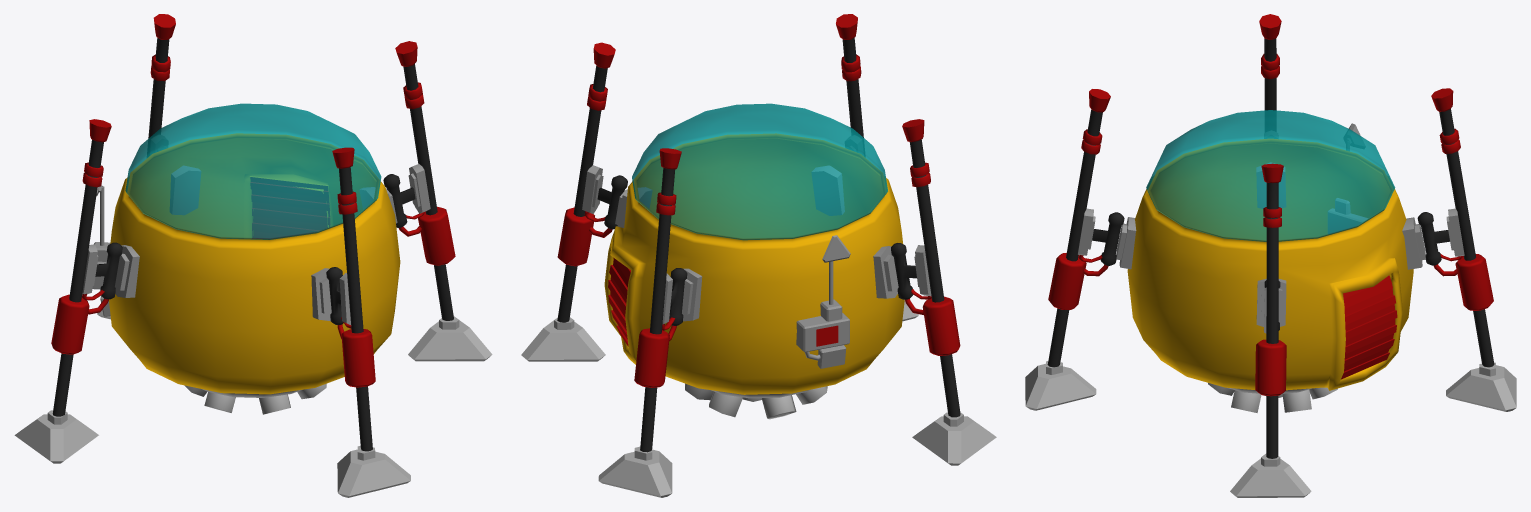
Rendered from SM_DropShip_Final 1.fbx.
The picture shows the model from 3 angles, left to right: view 1: azimuth 30°, elevation 25°; view 2: azimuth 150°, elevation 25°; view 3: azimuth 270°, elevation 25°; orthographic projection. The views are drawn at different scales.
Visible parts, largest first — view 1: capsule, skid_pads, suspension2, connectors, control_console, connector_cords; view 2: capsule, skid_pads, suspension2, control_console, connectors, connector_cords; view 3: capsule, skid_pads, suspension2, connectors, control_console.
Part boxes in pixels (left/top/right/bottom): capsule: left=109, top=103, right=400, bottom=414; skid_pads: left=14, top=14, right=492, bottom=497; suspension2: left=82, top=164, right=430, bottom=324; connectors: left=95, top=174, right=415, bottom=324; control_console: left=92, top=185, right=110, bottom=316; connector_cords: left=82, top=212, right=424, bottom=339; capsule: left=604, top=103, right=904, bottom=419; skid_pads: left=521, top=14, right=996, bottom=497; suspension2: left=582, top=165, right=931, bottom=324; control_console: left=796, top=235, right=850, bottom=368; connectors: left=597, top=175, right=916, bottom=325; connector_cords: left=584, top=211, right=931, bottom=340; capsule: left=1127, top=110, right=1413, bottom=412; skid_pads: left=1025, top=14, right=1516, bottom=497; suspension2: left=1078, top=162, right=1464, bottom=333; connectors: left=1092, top=212, right=1449, bottom=330; control_console: left=1328, top=123, right=1367, bottom=233.
Bounding box in the file's own units: 2132 × 1458 × 2131.
